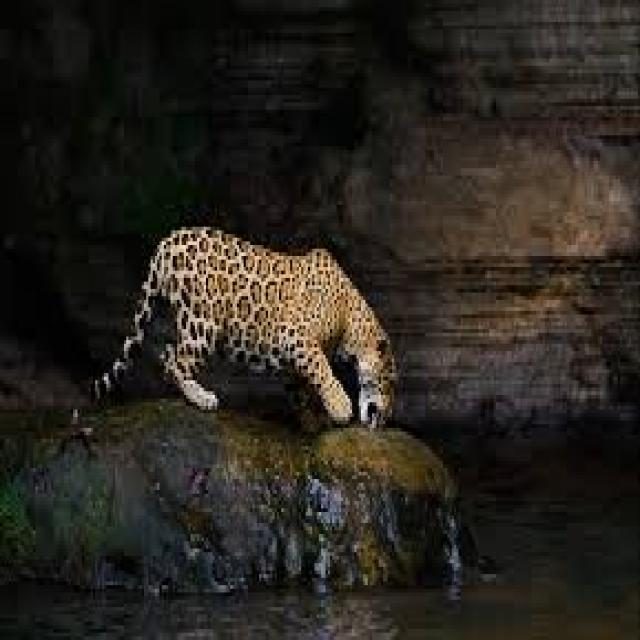Jaguar: (122, 223, 396, 461)
